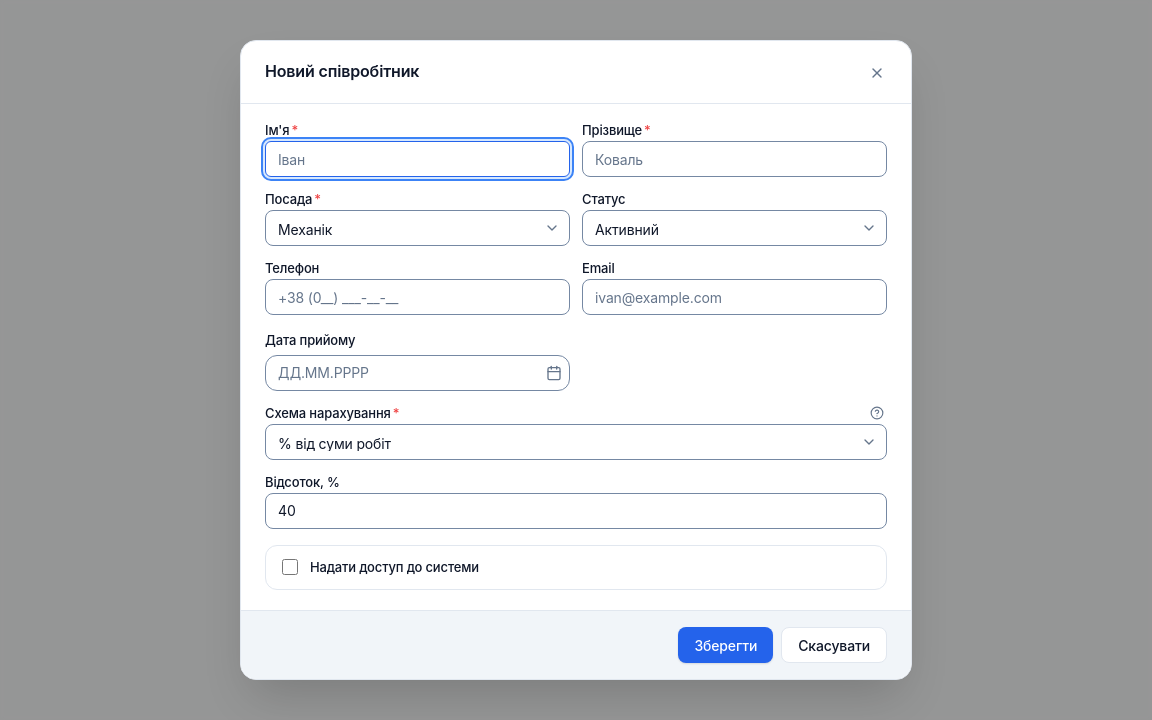
it: EmployeeEditModal — валідація zod + react-hook-form › порожні ім'я/прізвище → inline-помилки, POST не йде
Click the button "Зберегти" at (726, 645), box [678,627,773,663]
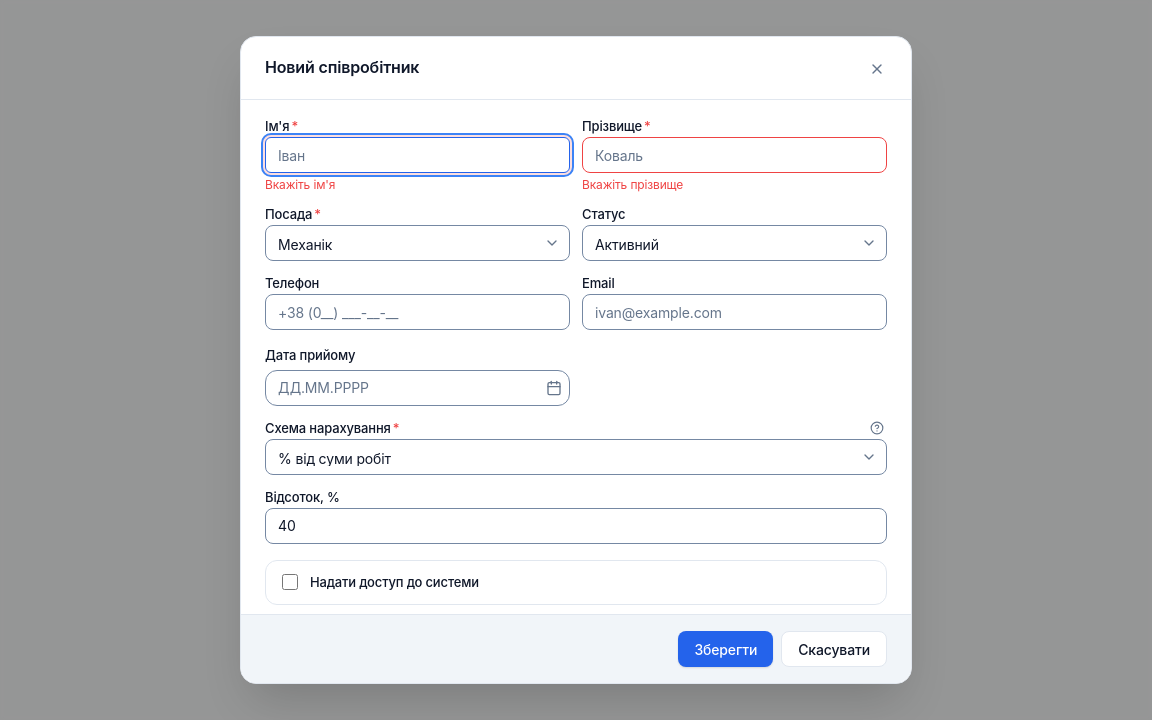
Expected: the text "Вкажіть ім'я" is shown, [265,177,335,192]
Expected: the text "Вкажіть прізвище" is shown, [582,177,683,192]
